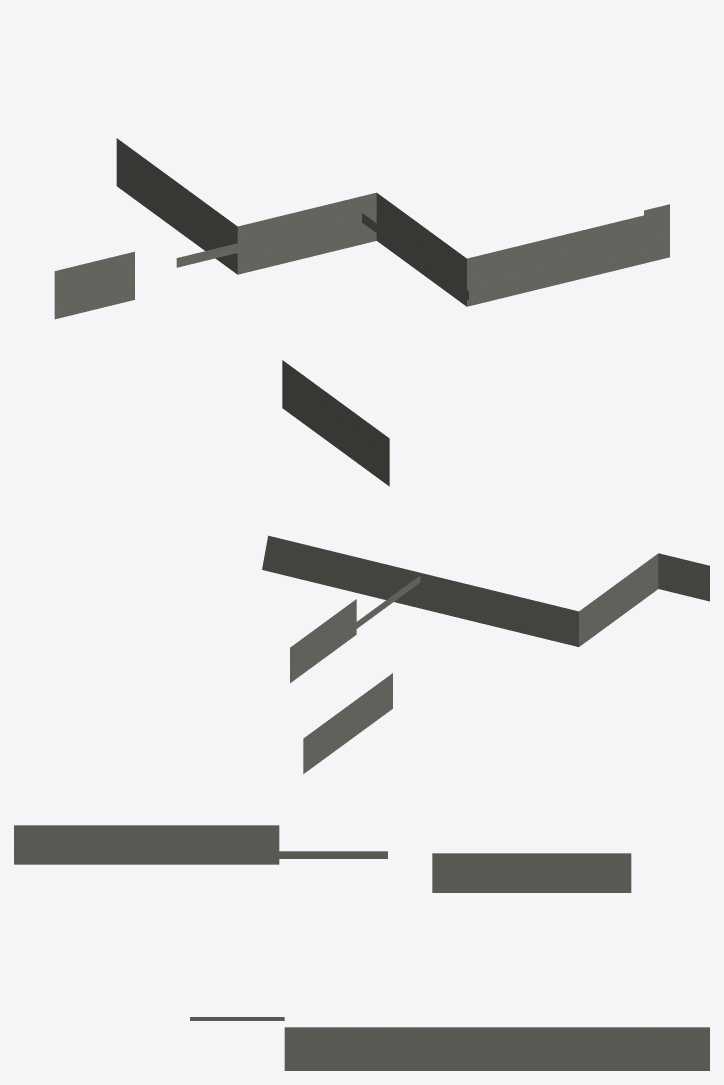
File: kd_stage_135d18_4_9.glb
The picture shows the model from 3 angles, top to bottom: view 1: azimuth 30°, elevation 25°; view 2: azimuth 150°, elevation 25°; view 3: azimuth 270°, elevation 25°; orthographic projection. The views are drawn at different scales.
Visible parts, largest first — view 1: kd_stage_135d18_4_9; view 2: kd_stage_135d18_4_9; view 3: kd_stage_135d18_4_9.
Part boxes in pixels (bbox=[...]): kd_stage_135d18_4_9: bbox=[54, 138, 669, 486]; kd_stage_135d18_4_9: bbox=[262, 535, 709, 773]; kd_stage_135d18_4_9: bbox=[14, 825, 709, 1070].
Bounding box in the file's own units: 5.67 × 0.5975 × 7.93.
Materials: 1 (1 with a texture image).
